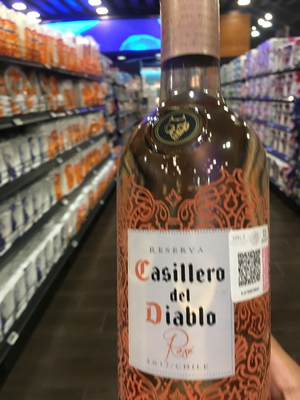casillero del diablo rose: (114, 1, 274, 400)
